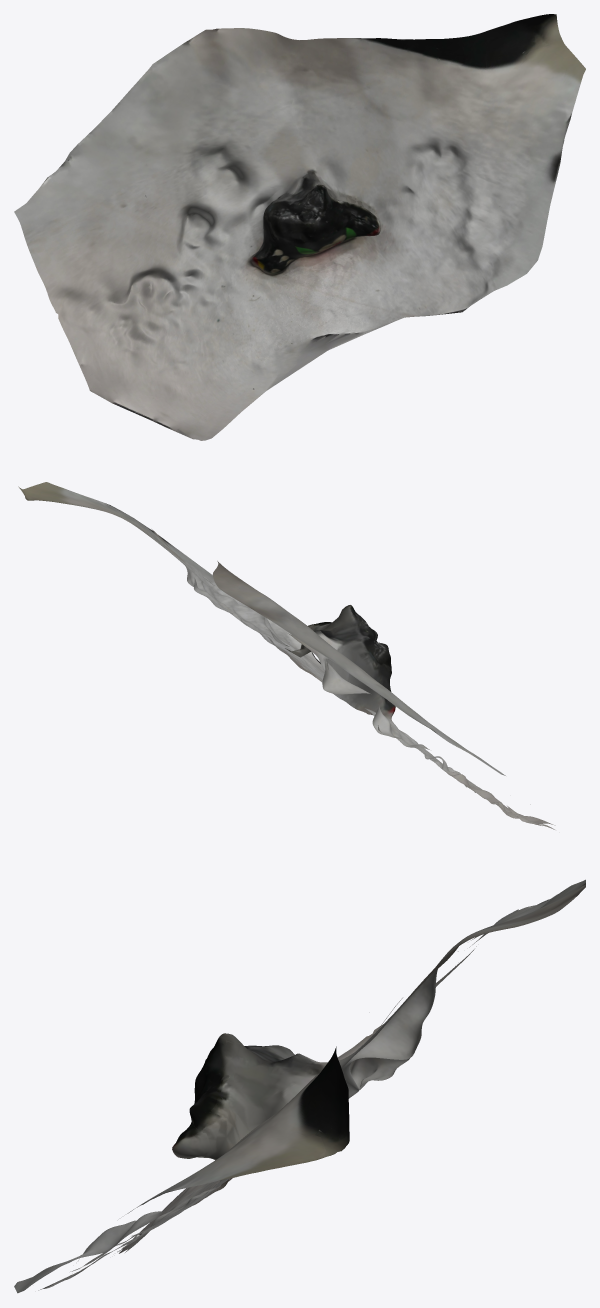
3 views of the same model, one above another, from view 1: azimuth 30°, elevation 25°; view 2: azimuth 150°, elevation 25°; view 3: azimuth 270°, elevation 25° (orthographic). The views are drawn at different scales.
Bounding box in the file's own units: 2.18 × 1.18 × 1.28.
Materials: 1 (1 with a texture image).
